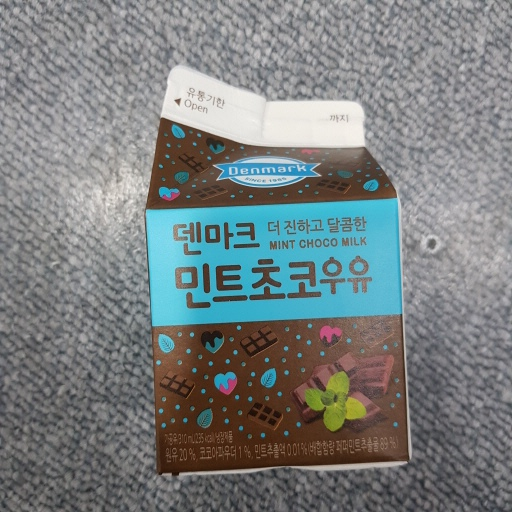Paper_0: (113, 57, 422, 494)
